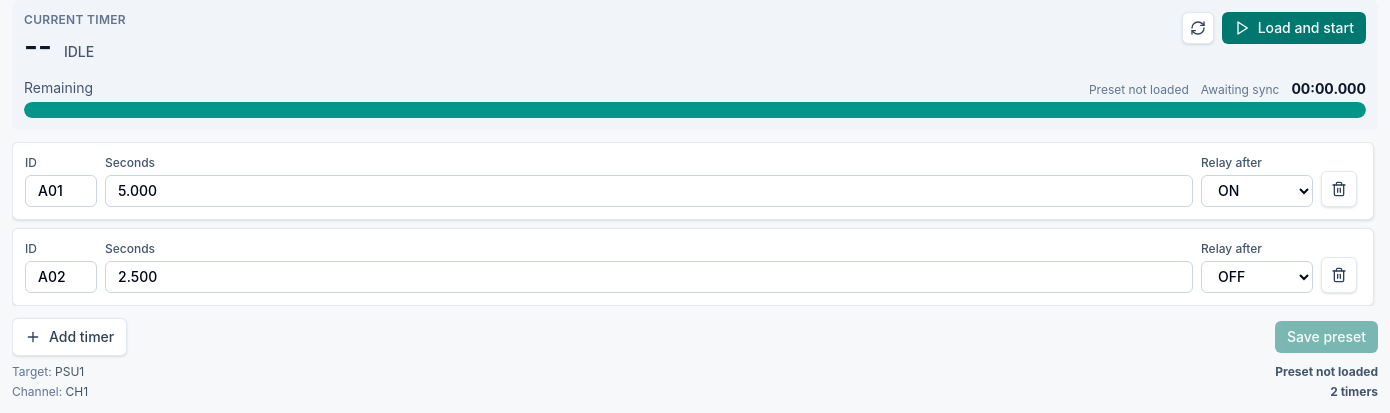
TimerQueueCard › shows timer validation only once while editing
This screenshot has width=1390, height=413.
Expected: the text "Preset not loaded" next to "Awaiting sync" is shown, top-left (1089, 82), bottom-right (1189, 96)
Type "A0" into the field named "Timer id 1" at (61, 190), box top-left (25, 174), bottom-right (97, 206)
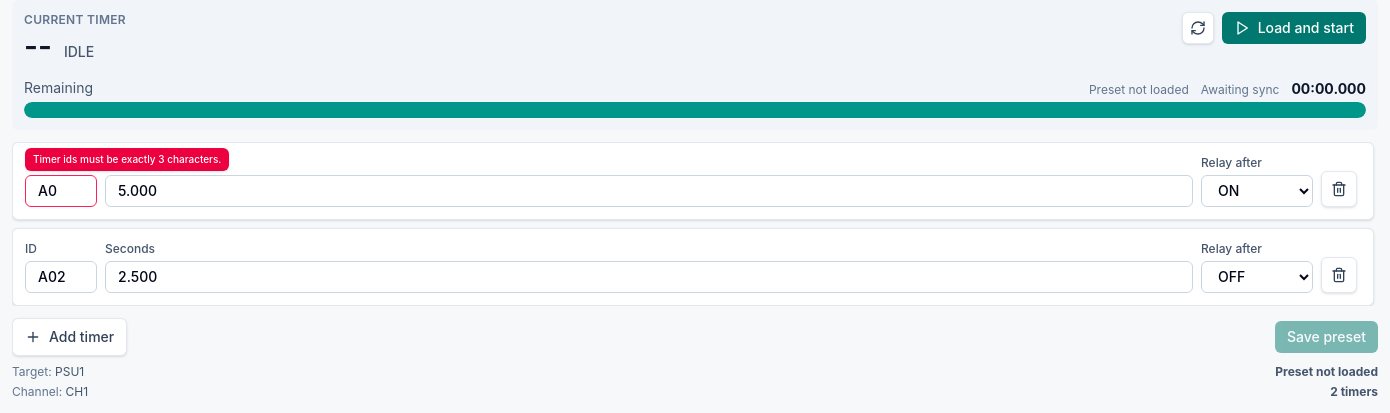
Result: the text "Timer ids must be exactly 3 characters." is shown once at top-left (25, 148), bottom-right (229, 170)
